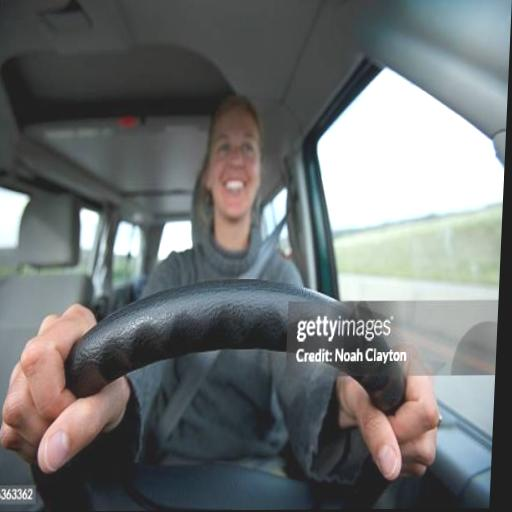Hands-on-the-Wheel: (0, 281, 140, 483), (321, 320, 461, 487)
